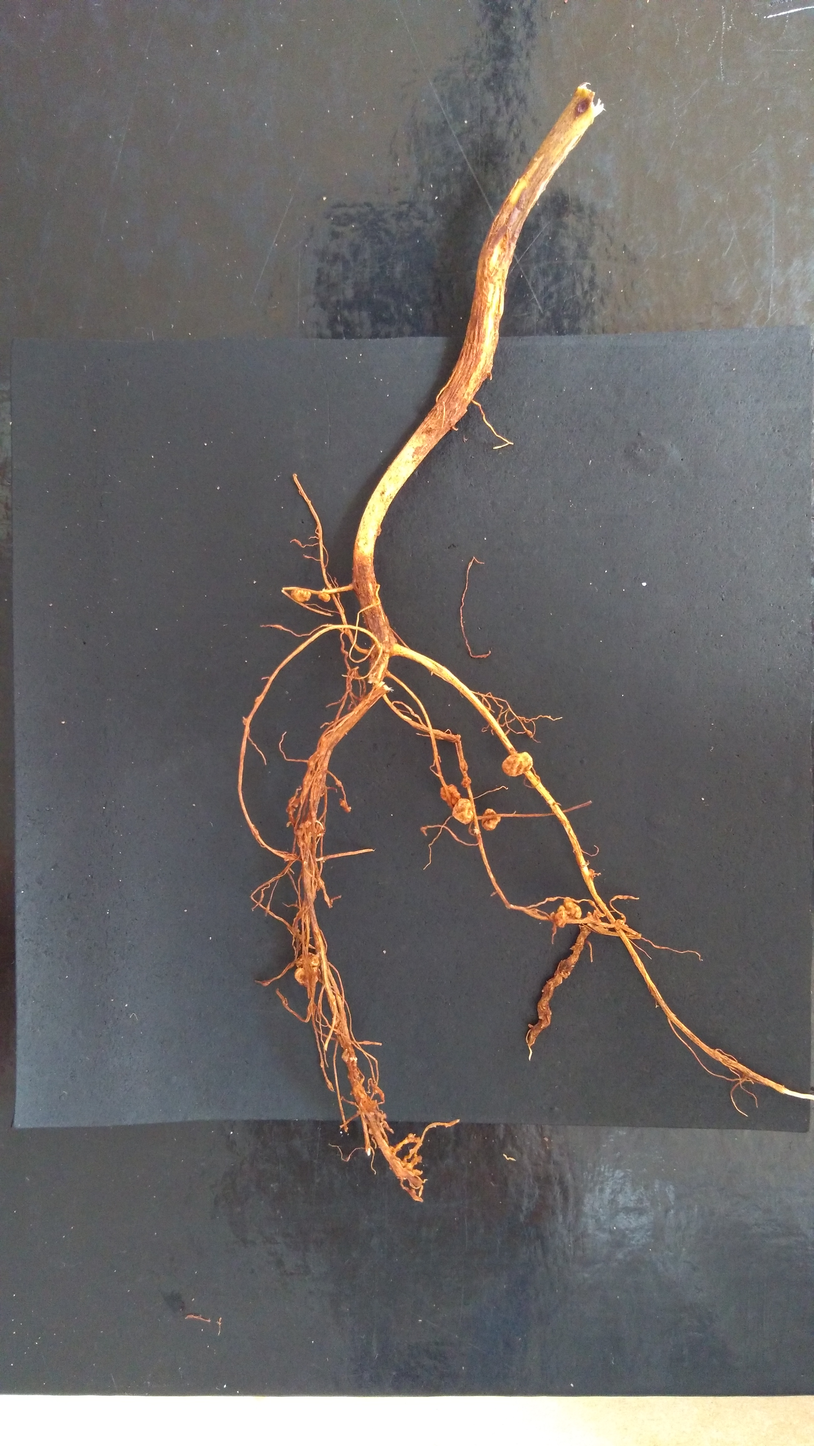nodule: (499, 750, 534, 780), (450, 796, 476, 826), (293, 966, 321, 987), (439, 783, 462, 808), (481, 807, 502, 832), (562, 895, 583, 919), (293, 951, 321, 968), (554, 903, 568, 929), (290, 588, 312, 603), (338, 797, 352, 816), (459, 775, 473, 788), (317, 592, 331, 603), (615, 918, 630, 928)
